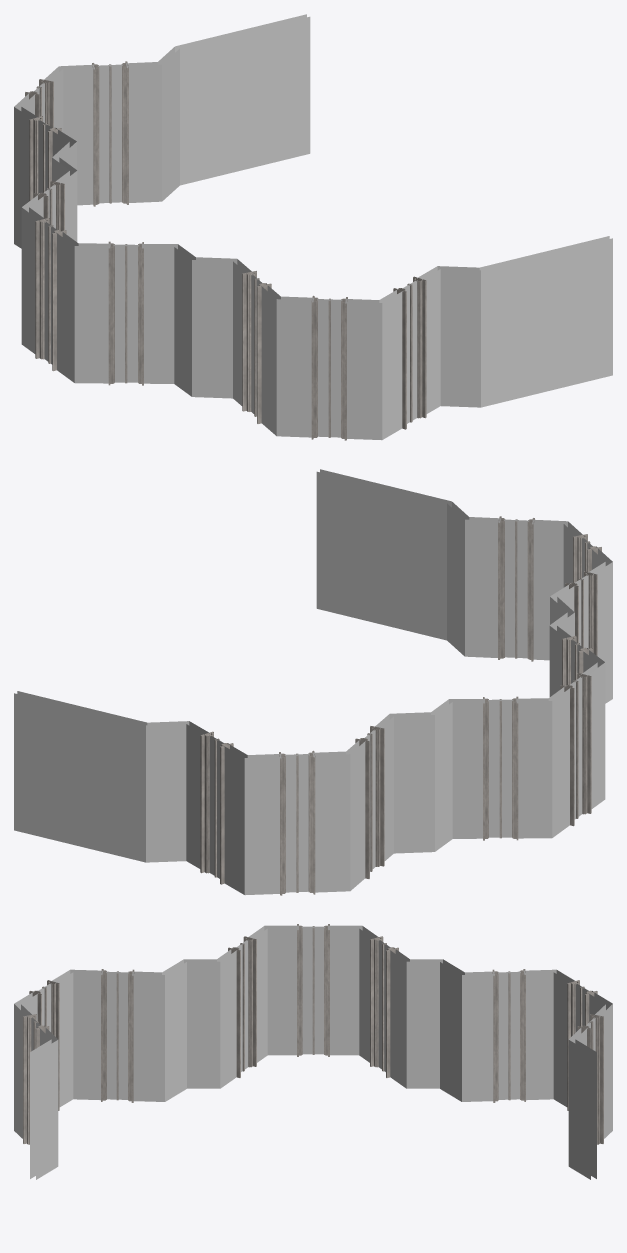
Rendered from Ambulatory_Outer_D_D.fbx.
3 views of the same model, one above another, from view 1: azimuth 30°, elevation 25°; view 2: azimuth 150°, elevation 25°; view 3: azimuth 270°, elevation 25° (orthographic). The views are drawn at different scales.
Parts seen in each view (by area): view 1: Ambulatory_Outer_D_D; view 2: Ambulatory_Outer_D_D; view 3: Ambulatory_Outer_D_D.
Part boxes in pixels (x1,y1,x2,y2): Ambulatory_Outer_D_D: (14,14,612,440); Ambulatory_Outer_D_D: (14,469,612,895); Ambulatory_Outer_D_D: (14,924,612,1179).
Bounding box in the file's own units: 19.02 × 25.64 × 6.
